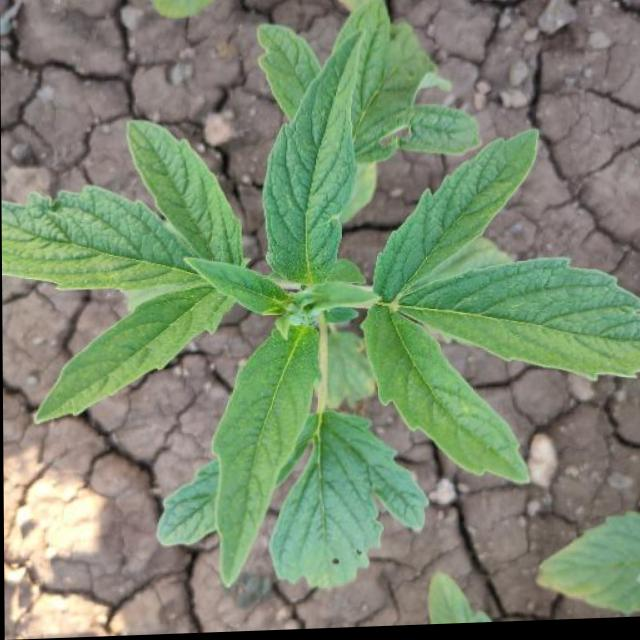crop: (1, 21, 640, 582)
